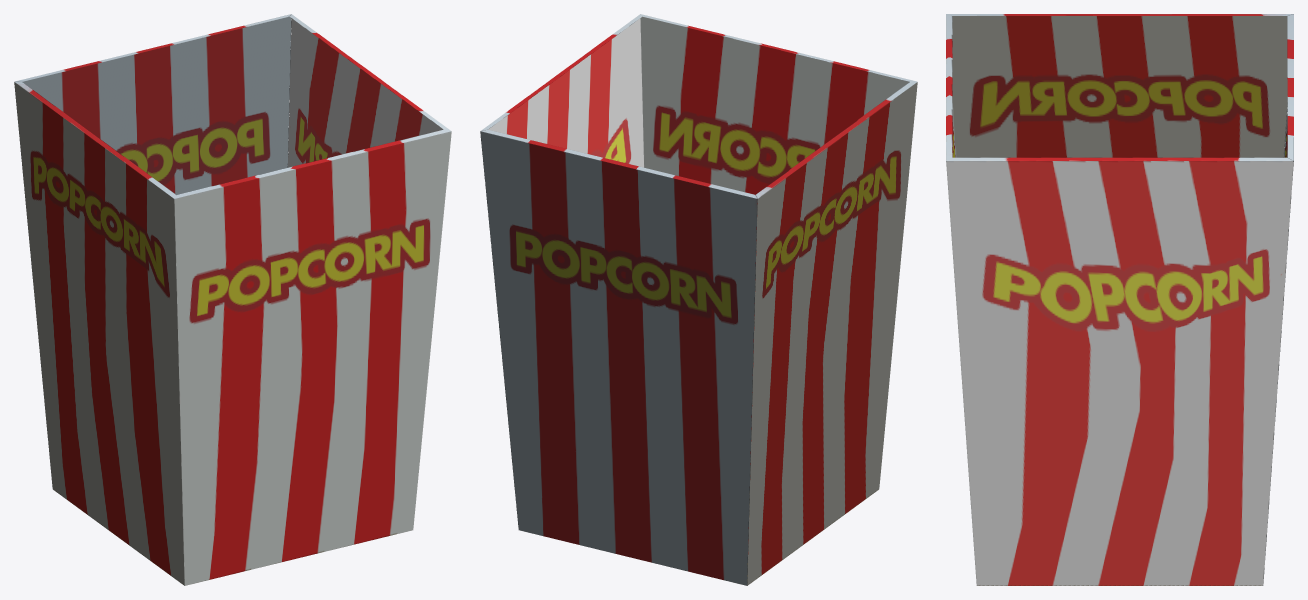
File: popcornboxlow.fbx
3 renders of one model, left to right at view 1: azimuth 30°, elevation 25°; view 2: azimuth 150°, elevation 25°; view 3: azimuth 270°, elevation 25°, orthographic. The views are drawn at different scales.
Visible parts, largest first — view 1: popcornbox; view 2: popcornbox; view 3: popcornbox.
Boxes of the visible parts, <box> form: popcornbox: <box>14,14,451,585</box>; popcornbox: <box>480,14,917,585</box>; popcornbox: <box>946,14,1293,585</box>.
Size of the model in its own units: 14.38 by 20.01 by 14.38.
